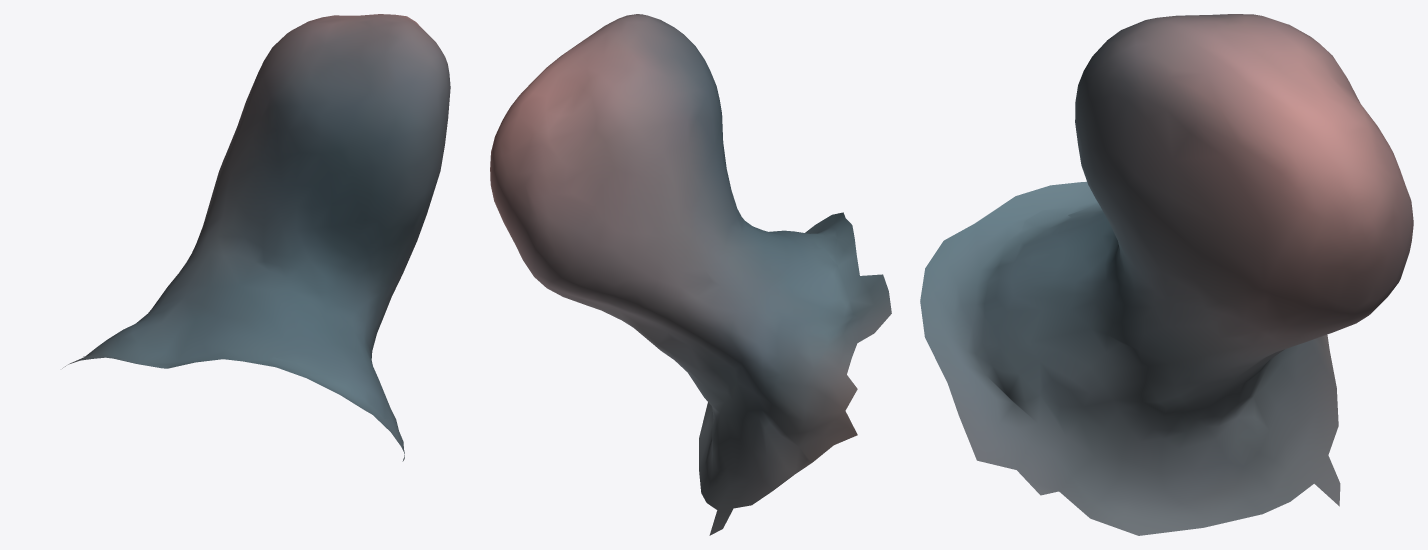
The model's file is LODS_Cloud_global_4.glb.
3 views of the same model, side by side, from view 1: azimuth 30°, elevation 25°; view 2: azimuth 150°, elevation 25°; view 3: azimuth 270°, elevation 25° (orthographic). The views are drawn at different scales.
Parts seen in each view (by area): view 1: LOD0; view 2: LOD0; view 3: LOD0.
Boxes of the visible parts, bbox=[...] form: LOD0: bbox=[62, 14, 450, 461]; LOD0: bbox=[490, 14, 891, 535]; LOD0: bbox=[920, 14, 1413, 535].
Size of what is drawn, in the model's own units: 0.0784 by 0.0914 by 0.071.
